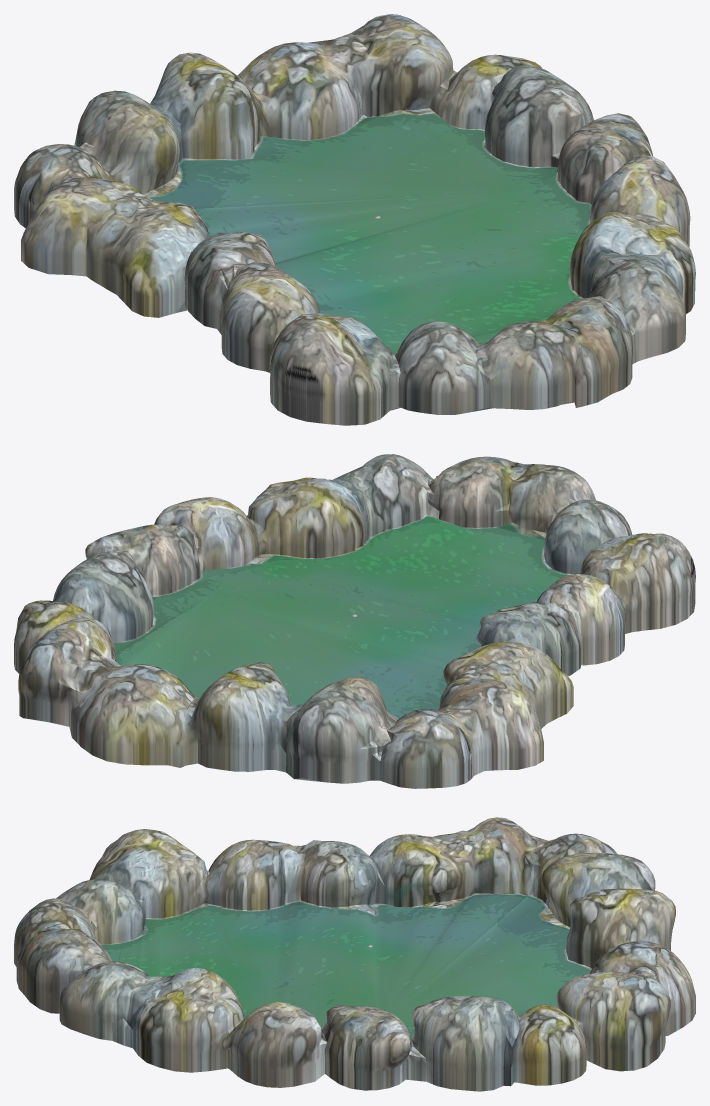
File: pond.obj
3 renders of one model, top to bottom at view 1: azimuth 30°, elevation 25°; view 2: azimuth 150°, elevation 25°; view 3: azimuth 270°, elevation 25°, orthographic. The views are drawn at different scales.
Visible parts, largest first — view 1: pSphere20_Pond_0; view 2: pSphere20_Pond_0; view 3: pSphere20_Pond_0.
Boxes of the visible parts, x1,y1,x2,y2 form: pSphere20_Pond_0: [14, 14, 695, 425]; pSphere20_Pond_0: [14, 454, 695, 788]; pSphere20_Pond_0: [14, 817, 695, 1091].
Size of the model in its own units: 0.9174 by 0.1529 by 1.14.
